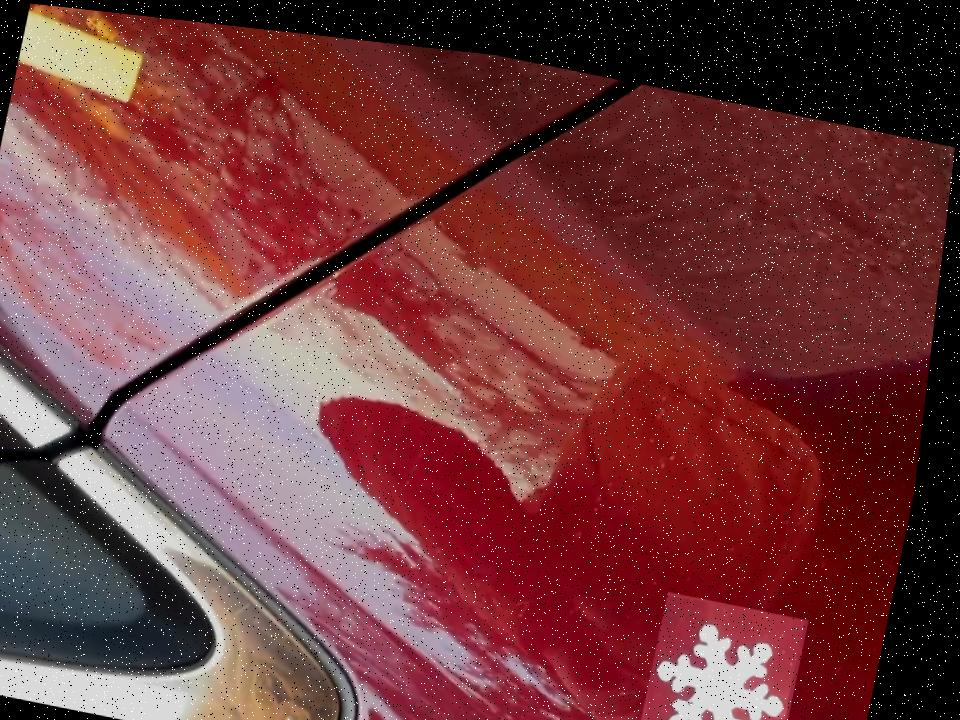dent: (652, 573, 824, 720)
